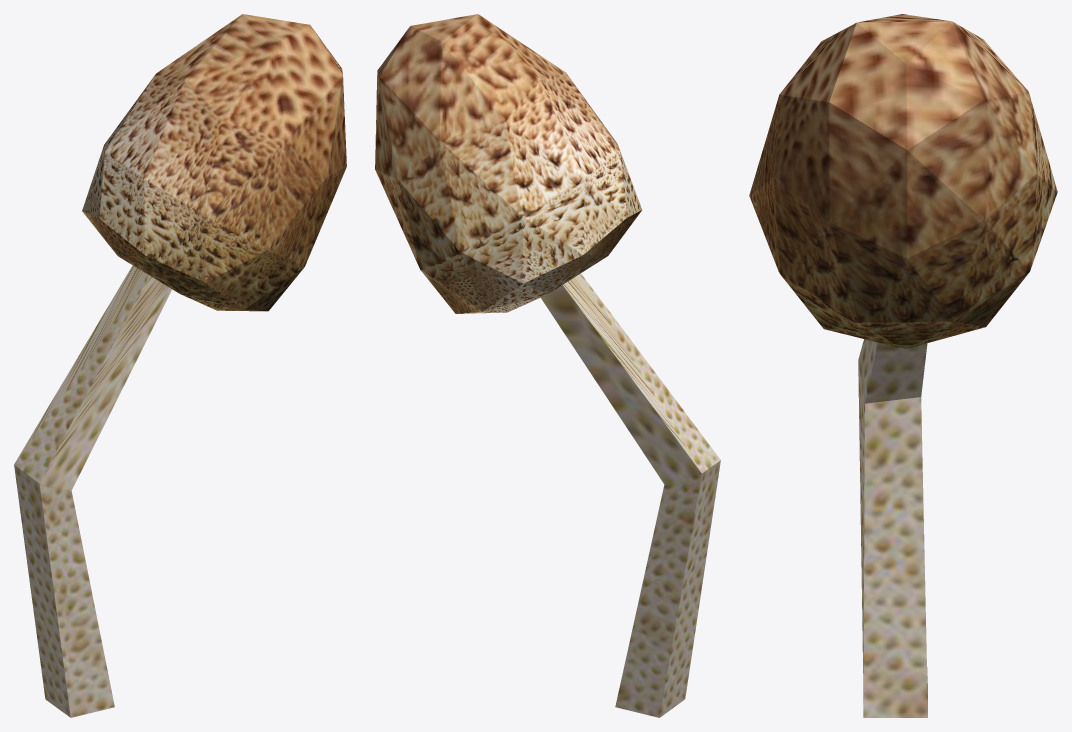
Rendered from fungo_8.fbx.
The picture shows the model from 3 angles, left to right: view 1: azimuth 30°, elevation 25°; view 2: azimuth 150°, elevation 25°; view 3: azimuth 270°, elevation 25°; orthographic projection. The views are drawn at different scales.
Parts seen in each view (by area): view 1: fungo_8; view 2: fungo_8; view 3: fungo_8.
Part boxes in pixels (x1=…): fungo_8: x1=14, y1=14, x2=346, y2=717; fungo_8: x1=375, y1=14, x2=720, y2=717; fungo_8: x1=749, y1=14, x2=1057, y2=717.
Size of the model in its own units: 11.12 by 20.52 by 7.2.
